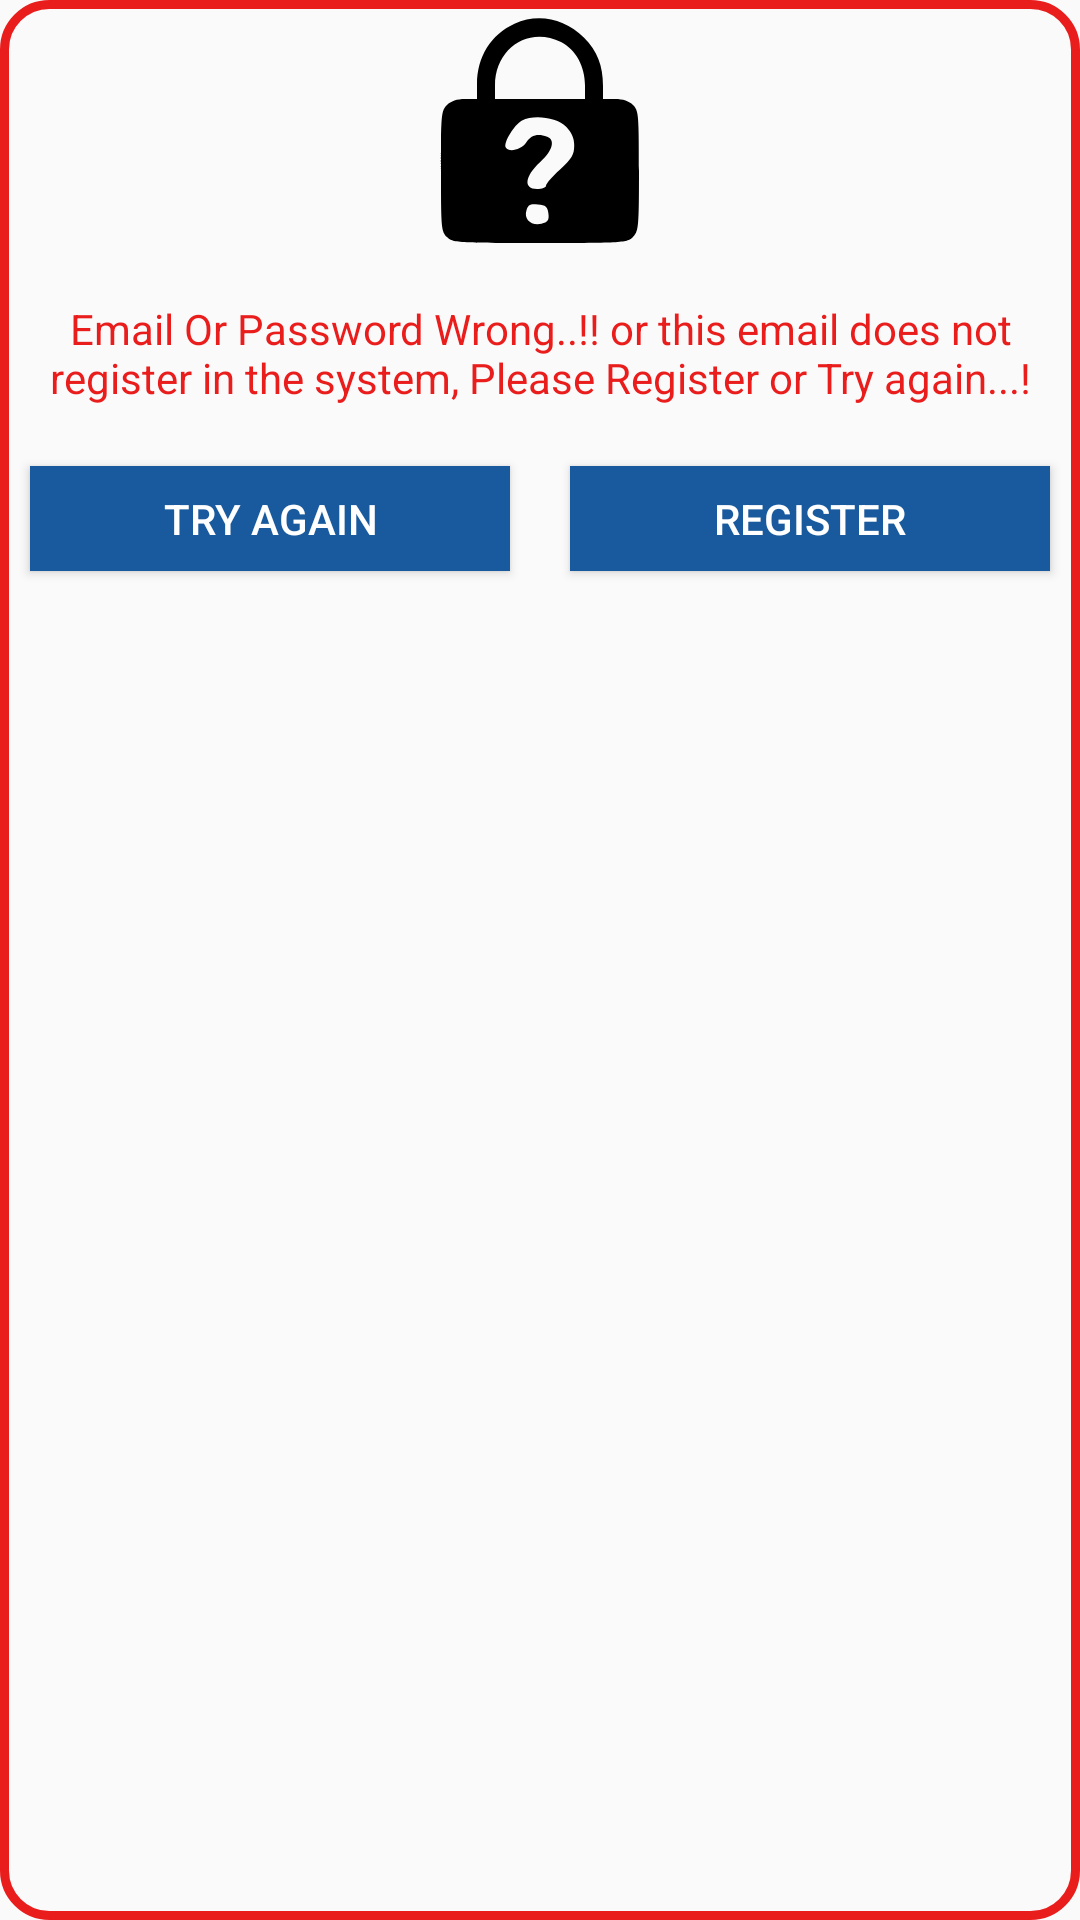

Point at icon controls on the screen. Image size 1080x1920, points as point (x, y).
forgot password: point (539, 130)
